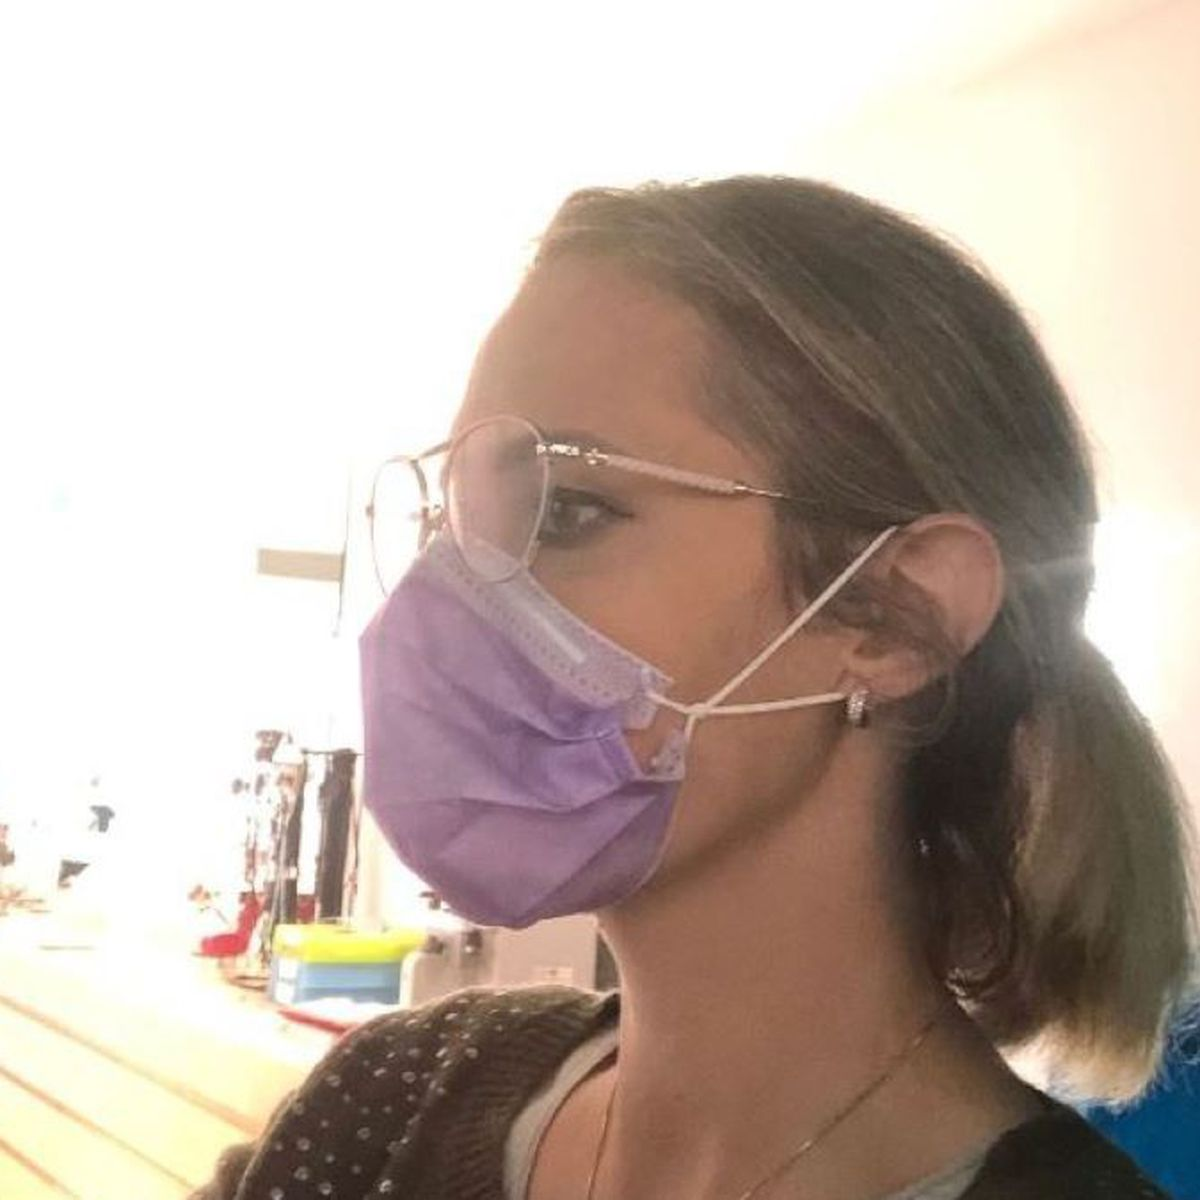with_mask: (333, 406, 765, 901)
